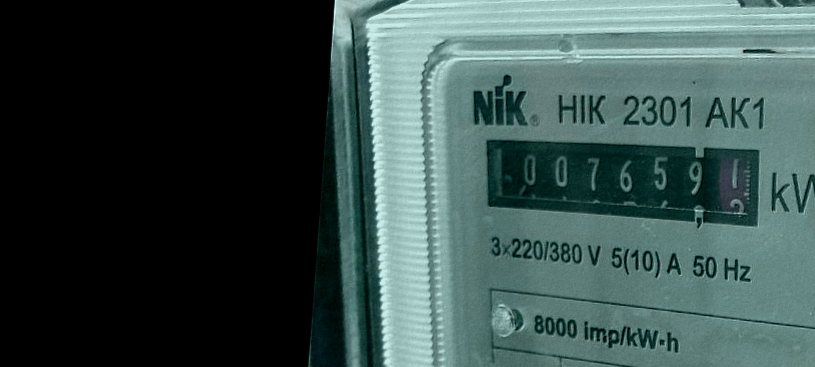0: (551, 151, 574, 192), (520, 151, 543, 190)
1: (725, 154, 746, 193)
5: (649, 153, 674, 194)
6: (615, 154, 640, 197)
7: (582, 153, 607, 194)
9: (685, 158, 709, 199)
screen: (473, 124, 771, 237)
